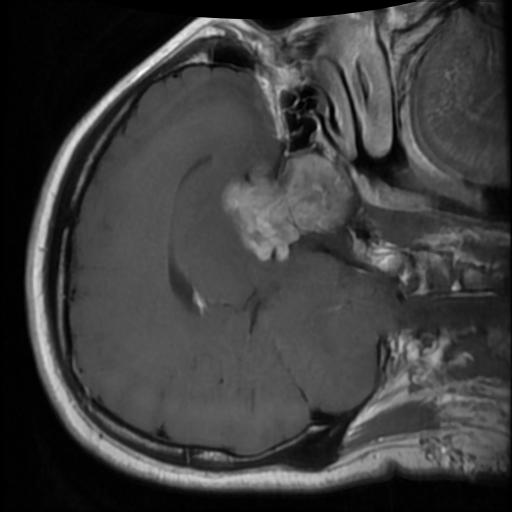pituitary tumour: (222, 156, 348, 261)
